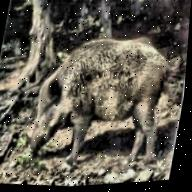boar: (22, 23, 176, 178)
